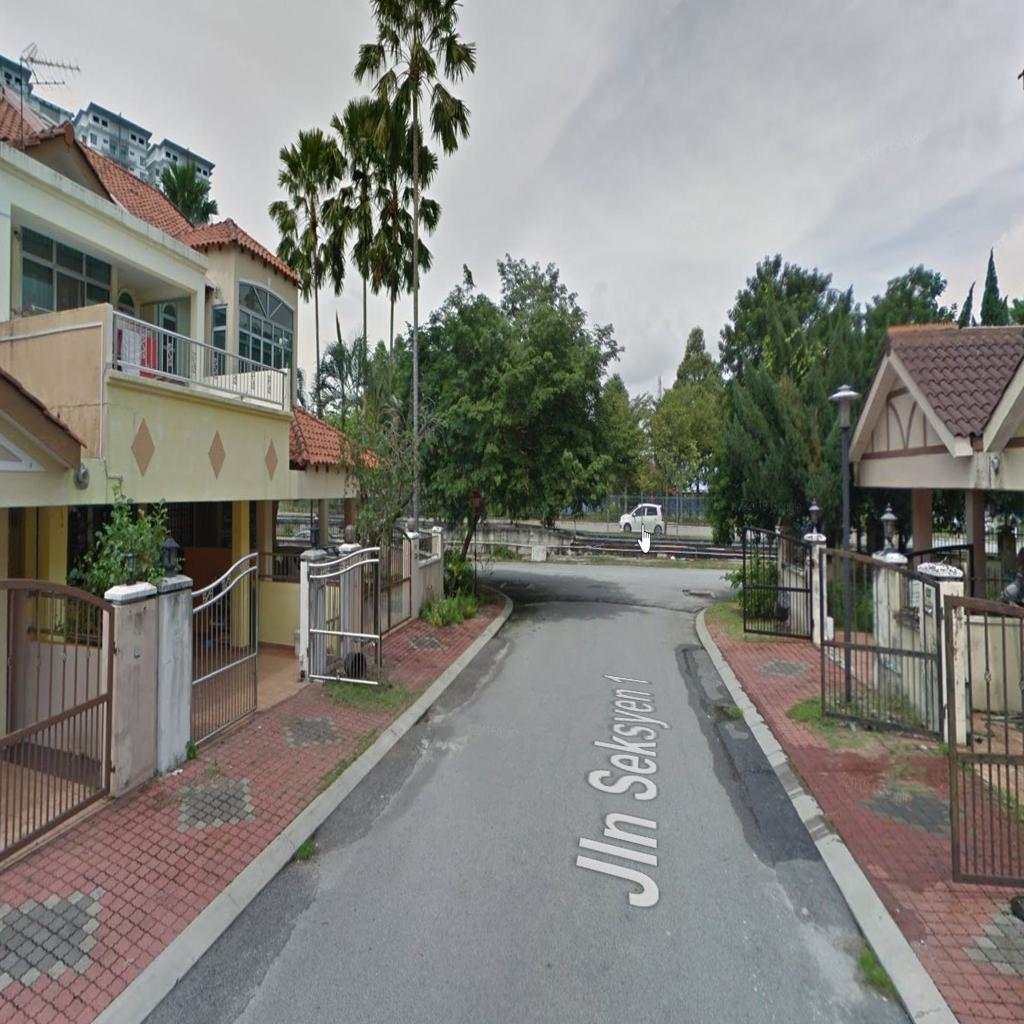Junction: (638, 534, 765, 617), (438, 533, 562, 618)
